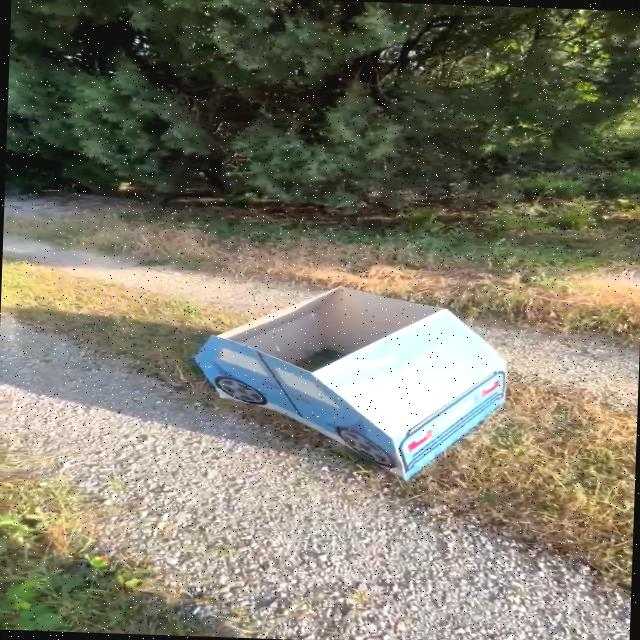blue_car: (142, 261, 575, 491)
